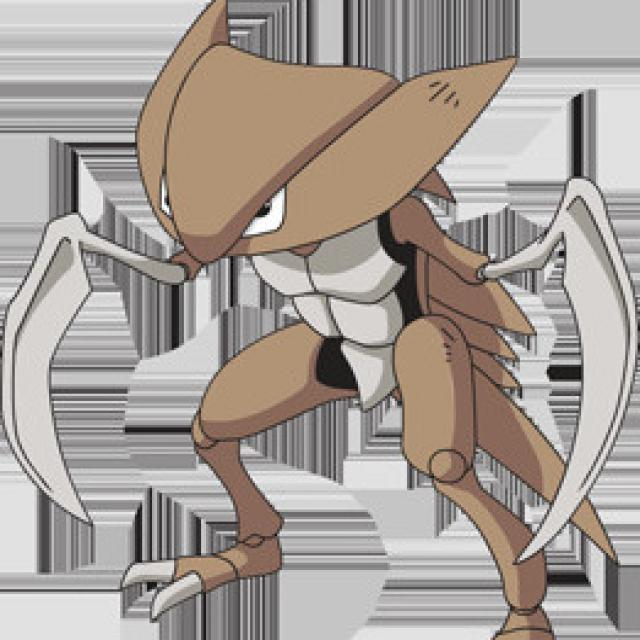Kabutops: (22, 2, 635, 640)
